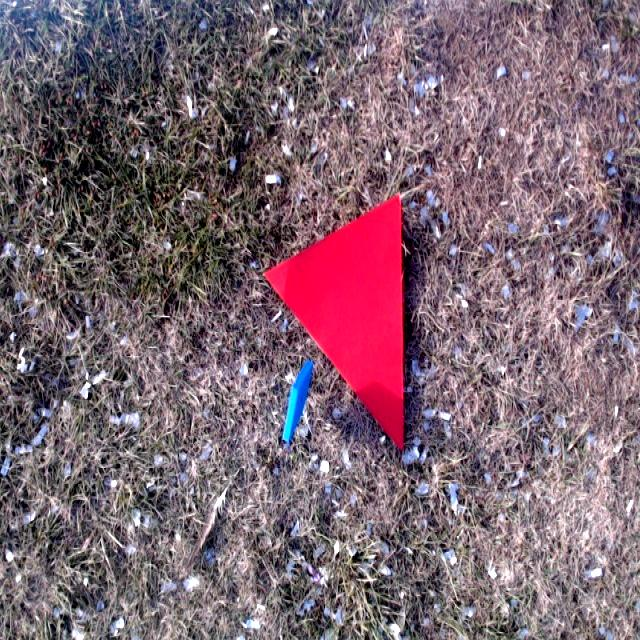red_triangle: (261, 188, 405, 451)
